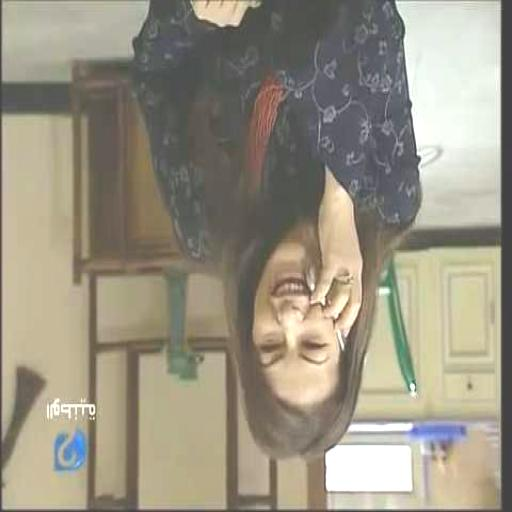zeineb: (251, 245, 345, 410)
